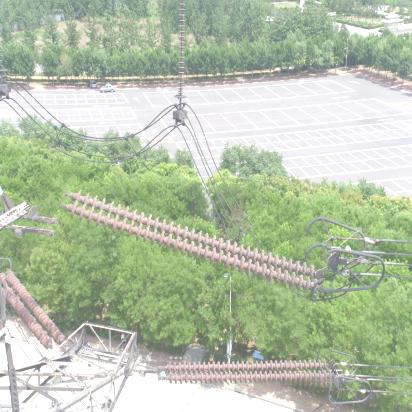insulator: (56, 200, 332, 284), (159, 352, 336, 392), (1, 270, 75, 350)
